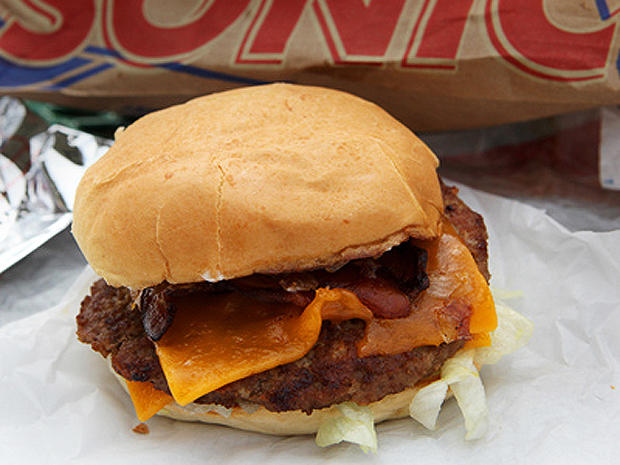hamburger_buns: (66, 94, 439, 265), (168, 403, 468, 442)
